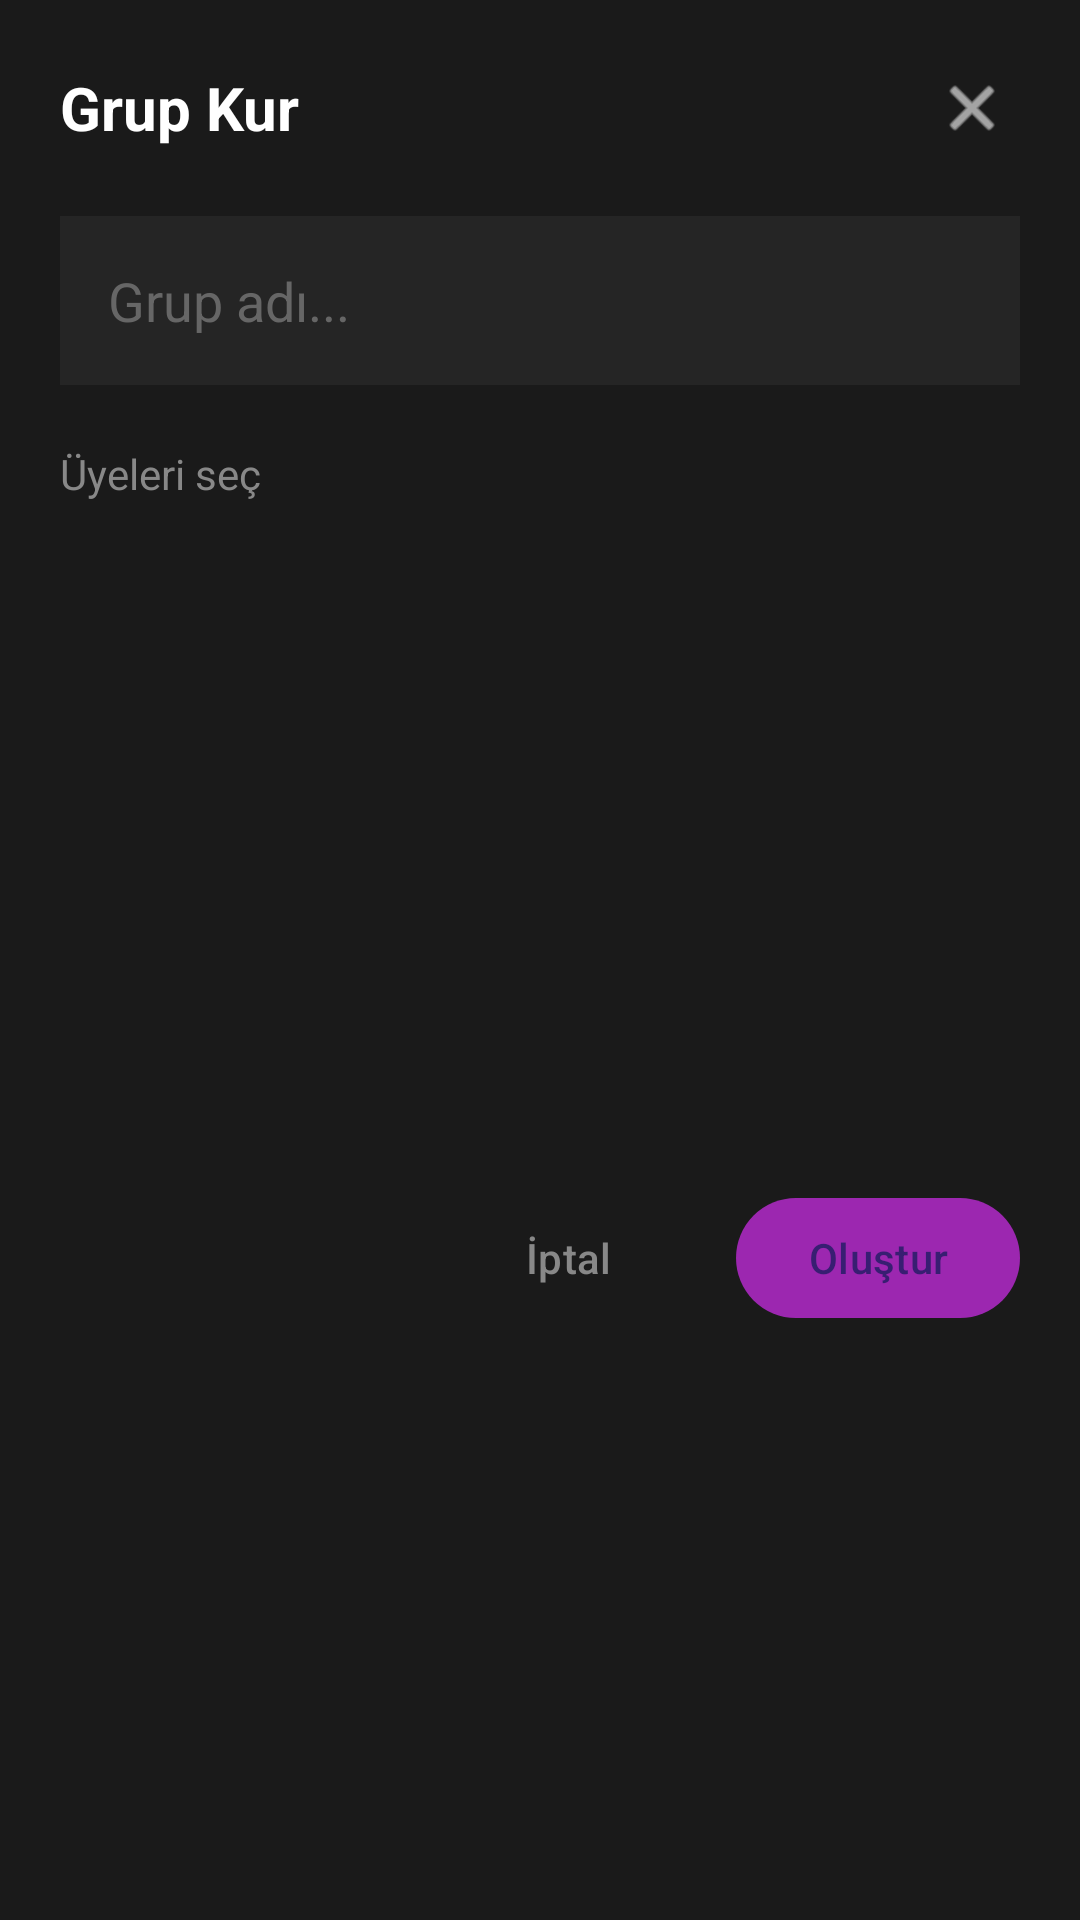

Icon click points for this 1080w x 1920h phone screenshot, format (x,y):
close clear cancel: (972,108)
